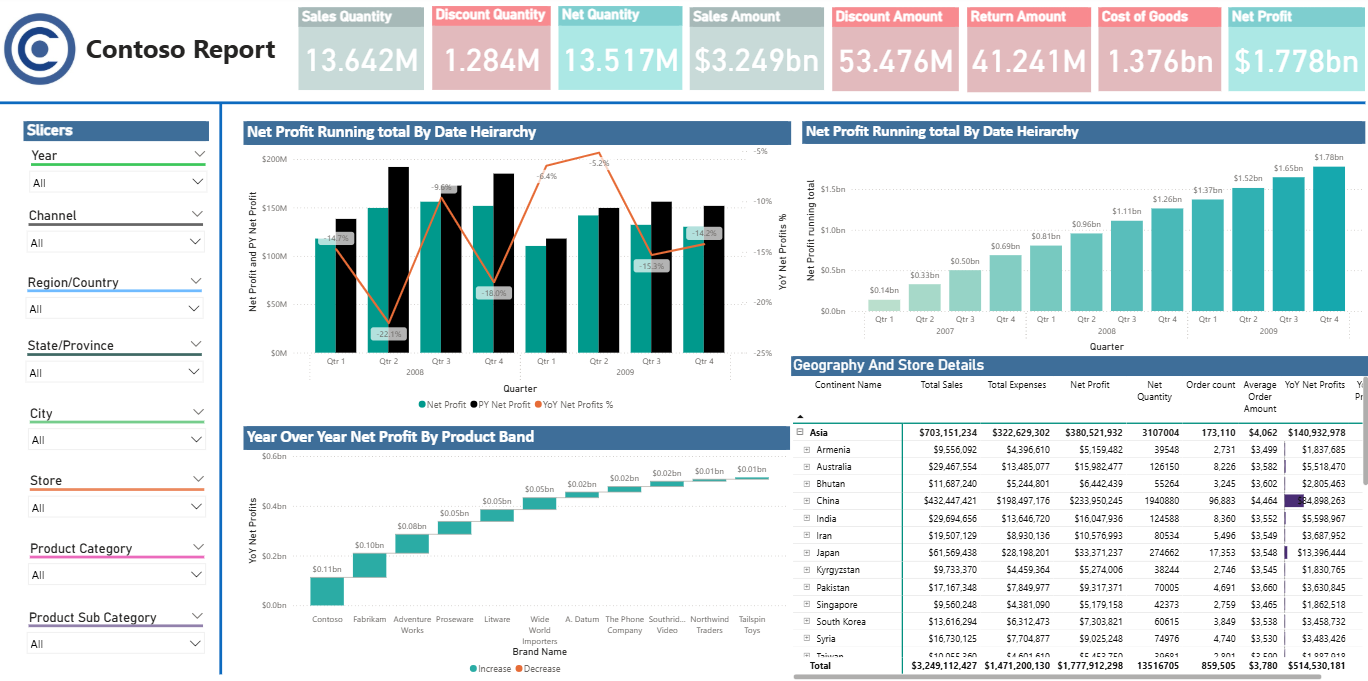

What the dashboard file says about the page in this screenshot:
{"tool":"powerbi","page":{"name":"Page 1","canvas":[2000,1000],"ordinal":0},"visuals":[{"type":"textbox","title":"Slicers","box":[39.3,183.5,269.7,801.5],"z":0},{"type":"card","fields":{"Values":["Dax Measures.Total Expenses"]},"box":[358.8,839.2,299.8,12.4],"z":1000},{"type":"pivotTable","title":"Geography And Store Details","fields":{"Values":["Dax Measures.Total Sales","Dax Measures.Total Expenses","Dax Measures.Net Profit","Dax Measures.Net Quantity","Dax Measures.Order count","Dax Measures.Average Order Amount","Dax Measures.YoY Net Profits","Dax Measures.YoY Net Profits %"],"Rows":["Geography.Geography Hierarchy.Continent Name","Geography.Geography Hierarchy.Region Country Name","Geography.Geography Hierarchy.State Province Name","Geography.Geography Hierarchy.City Name","Store.Store Name"]},"box":[1153.6,524.3,846.4,475.7],"z":2000},{"type":"clusteredColumnChart","title":"Net Profit Running total By Date Heirarchy","fields":{"Y":["Dax Measures.Net Profit running total"],"Category":["Calender.Date.Variation.Date Hierarchy.Year","Calender.Date.Variation.Date Hierarchy.Quarter","Calender.Date.Variation.Date Hierarchy.Month","Calender.Date.Variation.Date Hierarchy.Day"]},"box":[1172.3,183.5,818.4,340.8],"z":3000},{"type":"lineClusteredColumnComboChart","title":"Net Profit Running total By Date Heirarchy","fields":{"Category":["Calender.Date.Variation.Date Hierarchy.Year","Calender.Date.Variation.Date Hierarchy.Quarter","Calender.Date.Variation.Date Hierarchy.Month","Calender.Date.Variation.Date Hierarchy.Day"],"Y":["Dax Measures.Net Profit","Dax Measures.PY Net Profit"],"Y2":["Dax Measures.YoY Net Profits %"]},"box":[359.6,183.5,795.9,430.7],"z":4000},{"type":"waterfallChart","title":"Year Over Year Net Profit By Product Band","fields":{"Category":["Product Master.Brand Name"],"Y":["Dax Measures.YoY Net Profits"]},"box":[359.6,627.3,794,370.8],"z":5000},{"type":"image","box":[0,19.7,126.2,118],"z":6000},{"type":"textbox","box":[125.8,46.8,314.5,71],"z":7000},{"type":"card","title":"Sales Amount","fields":{"Values":["Dax Measures.Total Sales"]},"box":[1008.2,18,195.1,119.7],"z":8000},{"type":"card","title":"Discount Amount","fields":{"Values":["Dax Measures.Discount Amount"]},"box":[1214.8,18,183.6,121.3],"z":9000},{"type":"card","title":"Net Profit","fields":{"Values":["Dax Measures.Net Profit"]},"box":[1791.8,18,198.4,121.3],"z":10000},{"type":"card","title":"Return Amount","fields":{"Values":["Dax Measures.Return Amount"]},"box":[1411.5,18,180.3,123],"z":11000},{"type":"card","title":"Cost of Goods","fields":{"Values":["Dax Measures.Total Cost"]},"box":[1601.6,18,178.7,121.3],"z":12000},{"type":"card","title":"Sales Quantity","fields":{"Values":["Dax Measures.Sales Quantity"]},"box":[440.4,17.6,182.6,120.1],"z":13000},{"type":"card","title":"Net Quantity","fields":{"Values":["Dax Measures.Net Quantity"]},"box":[818,16.4,180.3,121.3],"z":14000},{"type":"card","title":"Discount Quantity","fields":{"Values":["Dax Measures.Discount Quantity"]},"box":[634.4,16.4,172.1,121.3],"z":15000},{"type":"slicer","fields":{"Values":["Product Master.Product Subcategory Name"]},"box":[33.7,887.6,279,74.9],"z":16000},{"type":"slicer","fields":{"Values":["Product Master.Product Category Name"]},"box":[35.6,788.4,279,74.9],"z":17000},{"type":"slicer","fields":{"Values":["Store.Store Name"]},"box":[35.6,691,279,74.9],"z":18000},{"type":"slicer","fields":{"Values":["Geography.City Name"]},"box":[35.6,591.8,279,76.8],"z":19000},{"type":"slicer","fields":{"Values":["Geography.State Province Name"]},"box":[31.8,494.4,279,76.8],"z":20000},{"type":"slicer","fields":{"Values":["Geography.Region Country Name"]},"box":[31.8,400.7,279,76.8],"z":21000},{"type":"slicer","fields":{"Values":["Channel.Channel Name"]},"box":[33.7,305.2,279,74.9],"z":22000},{"type":"slicer","fields":{"Values":["Calender.Date.Variation.Date Hierarchy.Year"]},"box":[37.5,217.2,279,74.9],"z":23000},{"type":"shape","box":[0,142.3,1990.6,30],"z":24000},{"type":"shape","box":[309,155.4,35.6,831.5],"z":25000}]}

Visuals, with their boxes in screenshot pixels (x1, y1, x2, y2), scaled from the page's 2000x1000 canvas onto the 1368x681 screenshot:
"Slicers" textbox: x1=27, y1=125, x2=211, y2=671
card - Dax Measures.Total Expenses: x1=245, y1=571, x2=450, y2=580
"Geography And Store Details" pivotTable: x1=789, y1=357, x2=1367, y2=680
"Net Profit Running total By Date Heirarchy" clusteredColumnChart: x1=802, y1=125, x2=1362, y2=357
"Net Profit Running total By Date Heirarchy" lineClusteredColumnComboChart: x1=246, y1=125, x2=790, y2=418
"Year Over Year Net Profit By Product Band" waterfallChart: x1=246, y1=427, x2=789, y2=680
image: x1=0, y1=13, x2=86, y2=94
textbox: x1=86, y1=32, x2=301, y2=80
"Sales Amount" card: x1=690, y1=12, x2=823, y2=94
"Discount Amount" card: x1=831, y1=12, x2=957, y2=95
"Net Profit" card: x1=1226, y1=12, x2=1361, y2=95
"Return Amount" card: x1=965, y1=12, x2=1089, y2=96
"Cost of Goods" card: x1=1095, y1=12, x2=1218, y2=95
"Sales Quantity" card: x1=301, y1=12, x2=426, y2=94
"Net Quantity" card: x1=560, y1=11, x2=683, y2=94
"Discount Quantity" card: x1=434, y1=11, x2=552, y2=94
slicer - Product Master.Product Subcategory Name: x1=23, y1=604, x2=214, y2=655
slicer - Product Master.Product Category Name: x1=24, y1=537, x2=215, y2=588
slicer - Store.Store Name: x1=24, y1=471, x2=215, y2=522
slicer - Geography.City Name: x1=24, y1=403, x2=215, y2=455
slicer - Geography.State Province Name: x1=22, y1=337, x2=213, y2=389
slicer - Geography.Region Country Name: x1=22, y1=273, x2=213, y2=325
slicer - Channel.Channel Name: x1=23, y1=208, x2=214, y2=259
slicer - Calender.Date.Variation.Date Hierarchy.Year: x1=26, y1=148, x2=216, y2=199
shape: x1=0, y1=97, x2=1362, y2=117
shape: x1=211, y1=106, x2=236, y2=672
